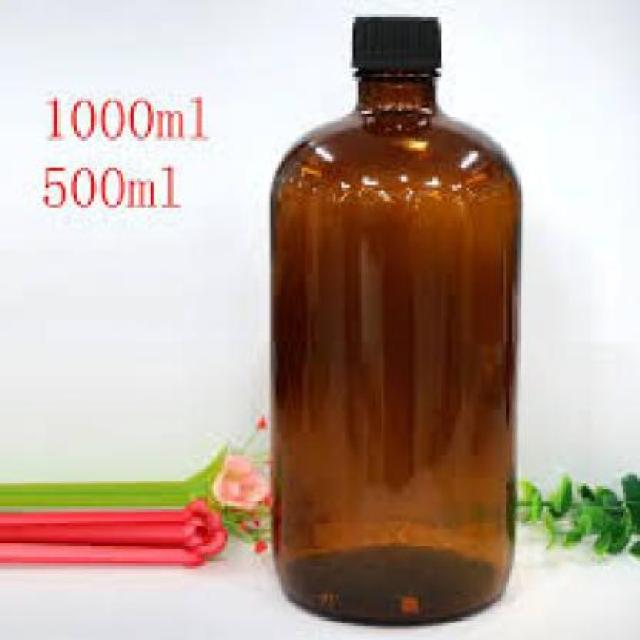kaca: (268, 68, 517, 623)
